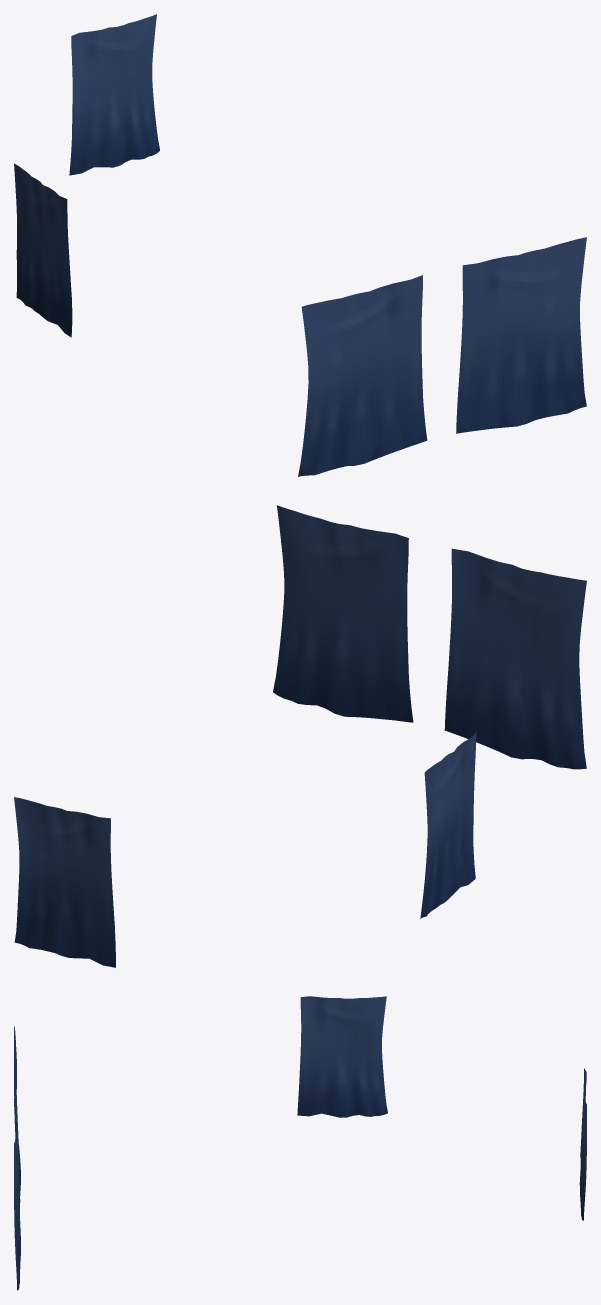
The model's file is Curtains (2).fbx.
3 renders of one model, top to bottom at view 1: azimuth 30°, elevation 25°; view 2: azimuth 150°, elevation 25°; view 3: azimuth 270°, elevation 25°, orthographic. The views are drawn at different scales.
Parts seen in each view (by area): view 1: Plane.008; view 2: Plane.008; view 3: Plane.008.
Part boxes in pixels (x1,y1,x2,y2): Plane.008: (14, 14, 586, 476); Plane.008: (14, 505, 586, 967); Plane.008: (14, 996, 586, 1290).
Bounding box in the file's own units: 710 × 337 × 1160.
